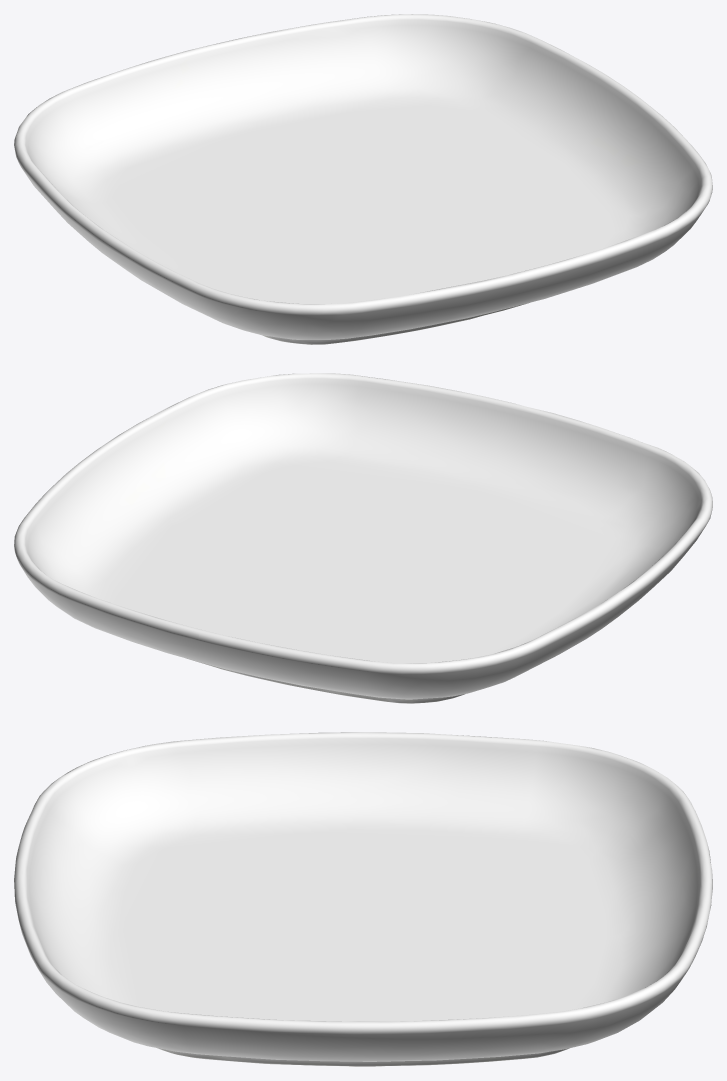
The model's file is VÄRDERA Petite assiette, blanc, 18x18 cm.glb.
3 renders of one model, top to bottom at view 1: azimuth 30°, elevation 25°; view 2: azimuth 150°, elevation 25°; view 3: azimuth 270°, elevation 25°, orthographic. The views are drawn at different scales.
Visible parts, largest first — view 1: model; view 2: model; view 3: model.
Part boxes in pixels (left/top/right/bottom): model: left=14, top=14, right=712, bottom=344; model: left=14, top=373, right=712, bottom=703; model: left=14, top=732, right=712, bottom=1066.
Size of the model in its own units: 0.1768 by 0.024 by 0.177.
Materials: 1 (1 with a texture image).
